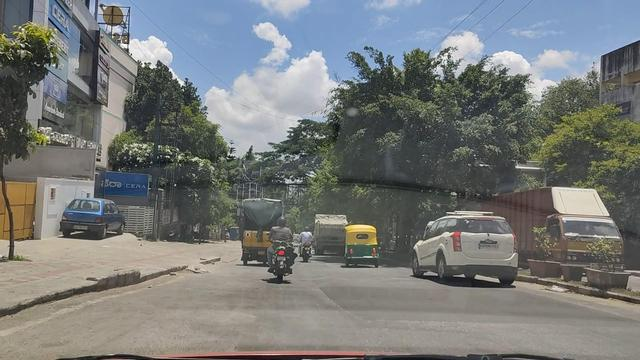HMV: (516, 172, 633, 282), (231, 194, 283, 268), (303, 200, 354, 266)
